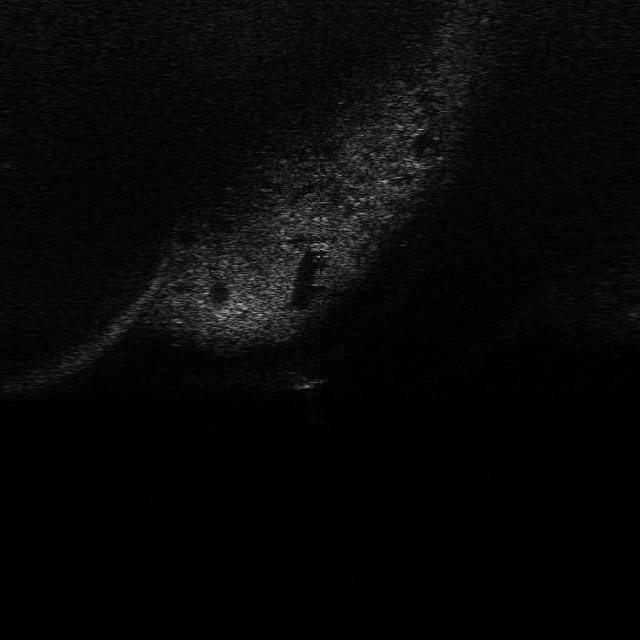cube: (280, 362, 330, 392)
